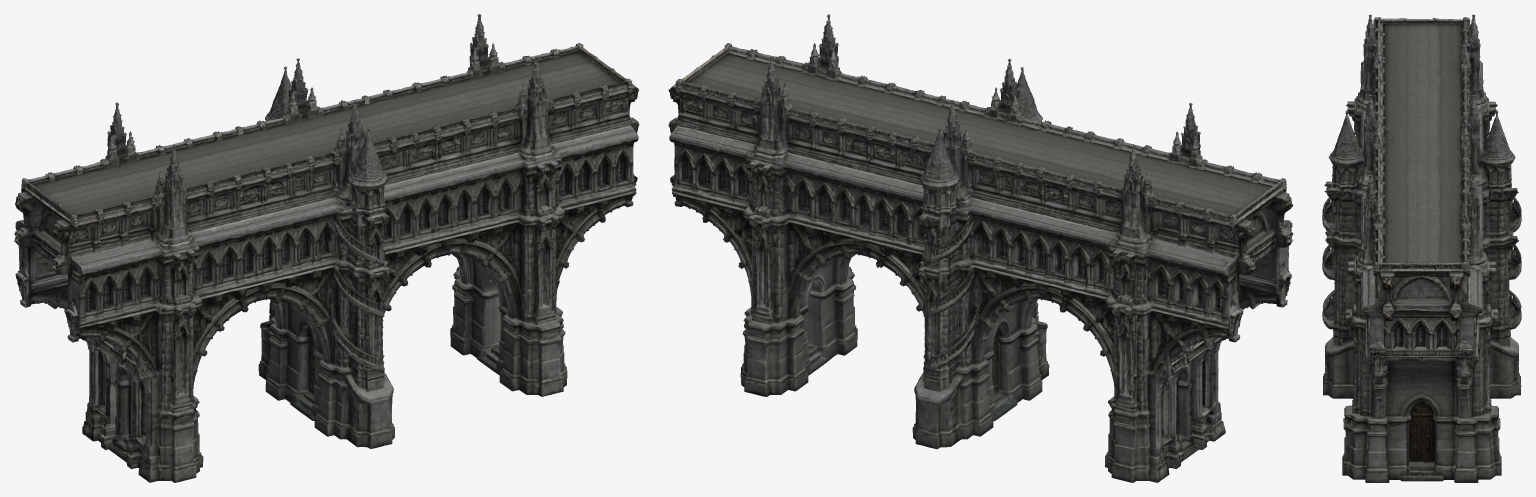
The model's file is gothic_bridge2.glb.
3 renders of one model, left to right at view 1: azimuth 30°, elevation 25°; view 2: azimuth 150°, elevation 25°; view 3: azimuth 270°, elevation 25°, orthographic. The views are drawn at different scales.
Bounding box in the file's own units: 0.9826 × 0.5239 × 0.3196.
Materials: 1 (1 with a texture image).
